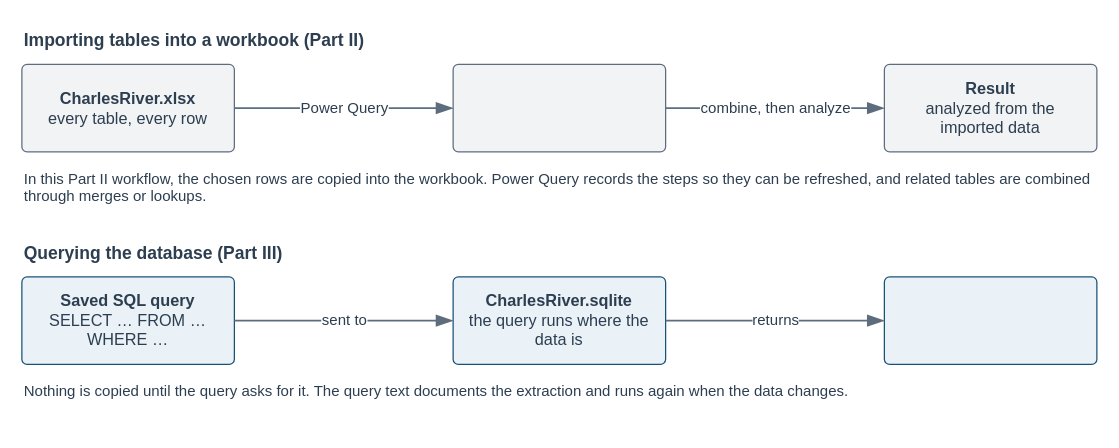
This 1119x448 diagram has some shape labels left out. Each missing label, with the box of its shape:
Analysis workbook the chosen rows copied in: (452, 63, 666, 152)
Result only the rows and columns asked for: (883, 276, 1097, 364)
